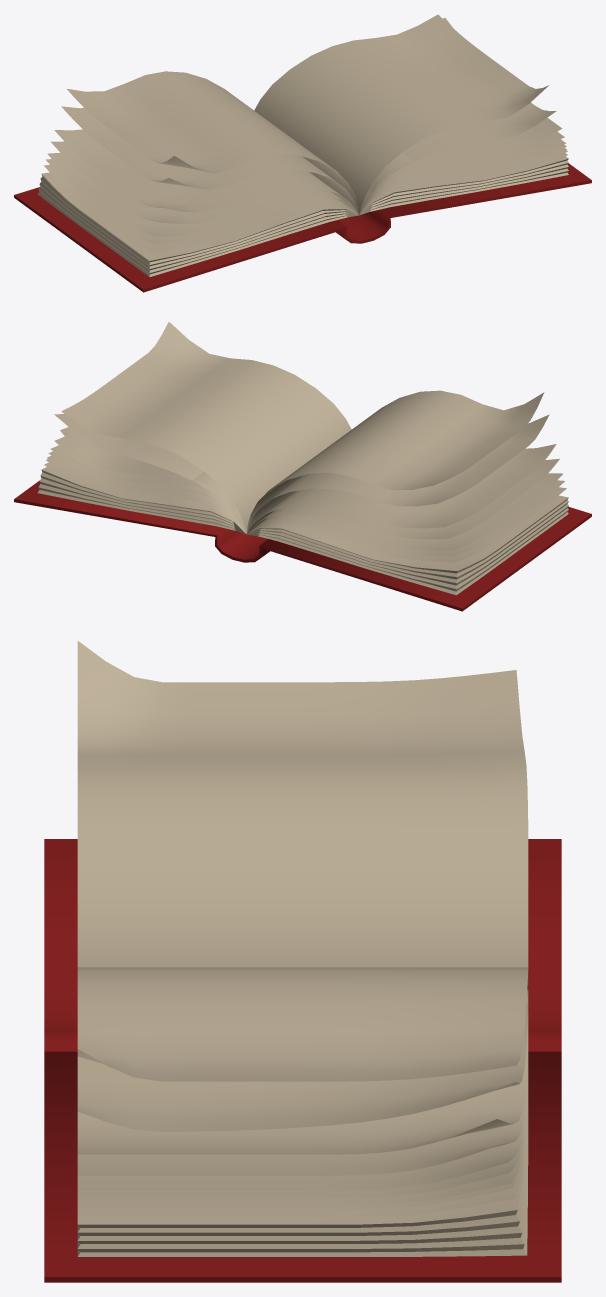
The model's file is open_book.glb.
3 views of the same model, one above another, from view 1: azimuth 30°, elevation 25°; view 2: azimuth 150°, elevation 25°; view 3: azimuth 270°, elevation 25° (orthographic). The views are drawn at different scales.
Parts seen in each view (by area): view 1: open book; view 2: open book; view 3: open book.
Boxes of the visible parts, x1=… form: open book: x1=14, y1=14, x2=591, y2=292; open book: x1=14, y1=322, x2=591, y2=611; open book: x1=44, y1=641, x2=561, y2=1282.
Bounding box in the file's own units: 0.8007 × 0.2143 × 0.4.
